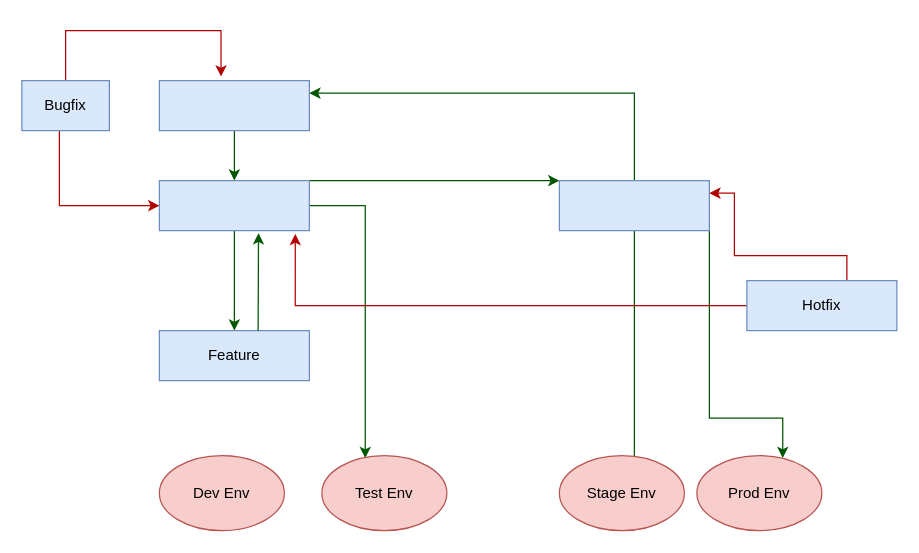
This 919x553 diagram has some shape labels left out. The centre of each missing label's shape, as x and y in pixels:
"Develop" belongs at pixel 233 205.
"Master" belongs at pixel 233 105.
"Release" belongs at pixel 633 205.
